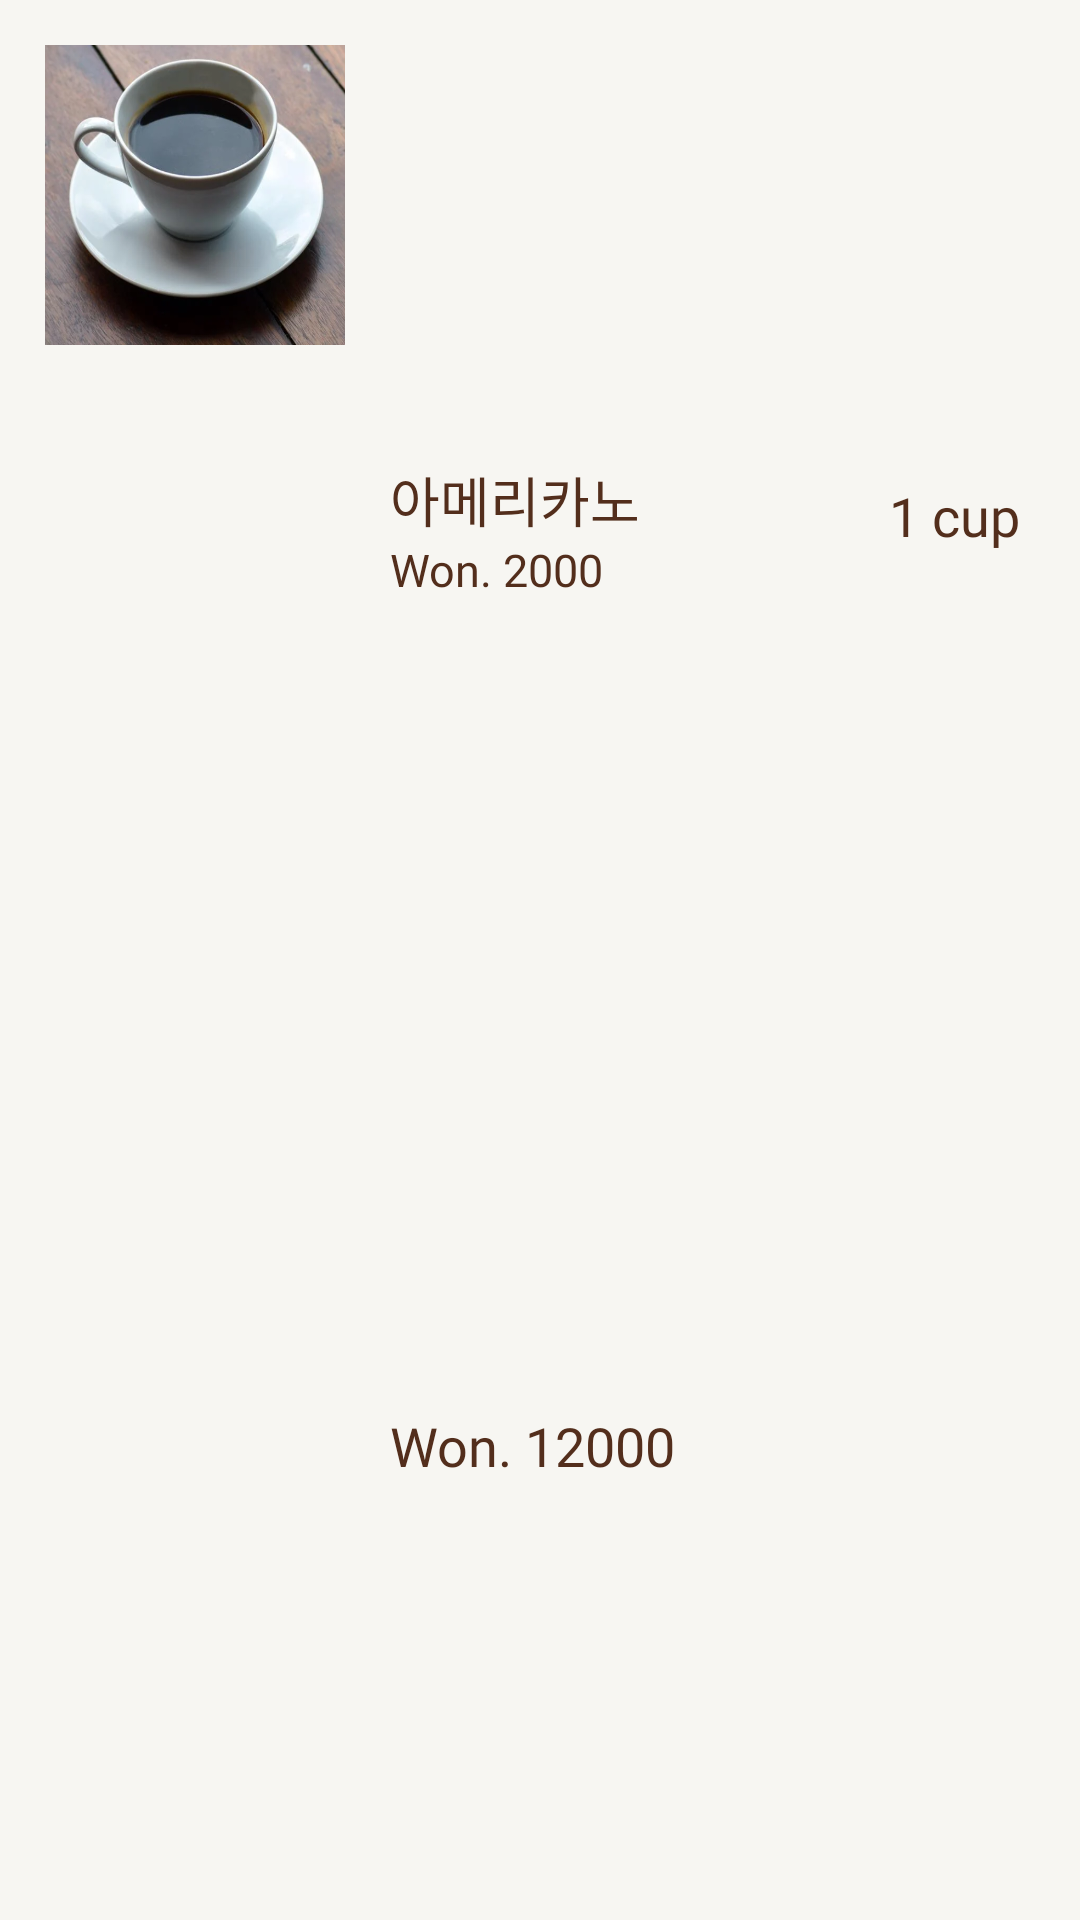

Screen size 1080×1920. Icon name, then its box in pixels as bbox=(x1, y1, x2, y2):
coffee: bbox=(45, 45, 345, 345)
